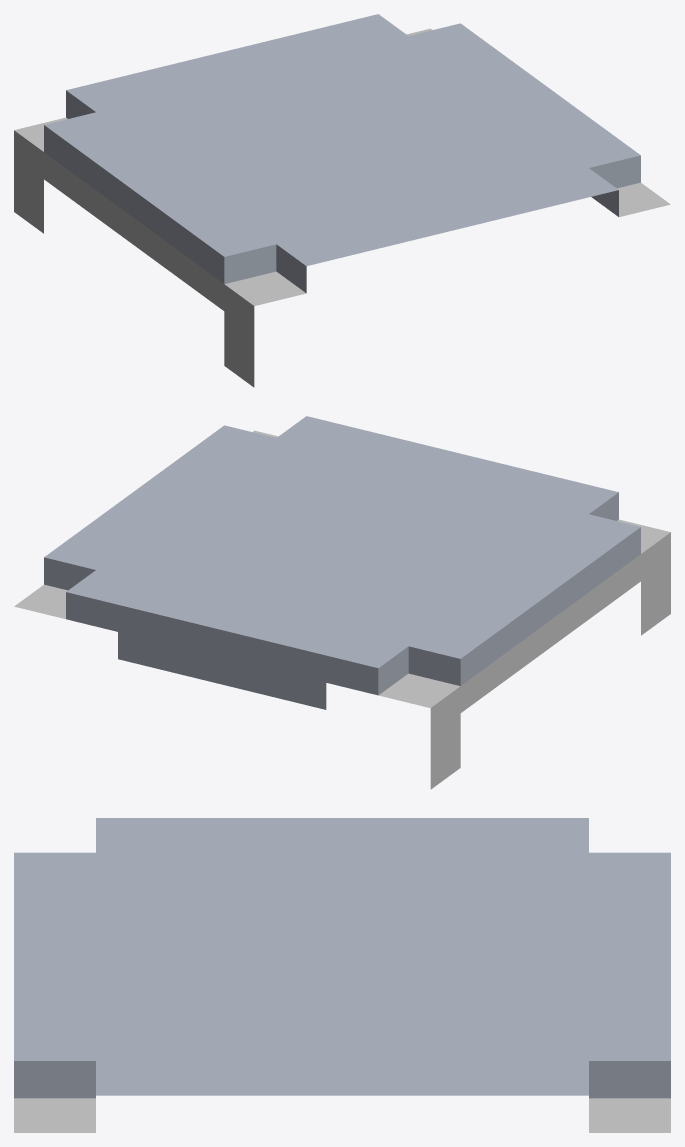
Rendered from cell_16.obj.
3 views of the same model, one above another, from view 1: azimuth 30°, elevation 25°; view 2: azimuth 150°, elevation 25°; view 3: azimuth 270°, elevation 25° (orthographic). The views are drawn at different scales.
Bounding box in the file's own units: 1 × 0.25 × 1.
